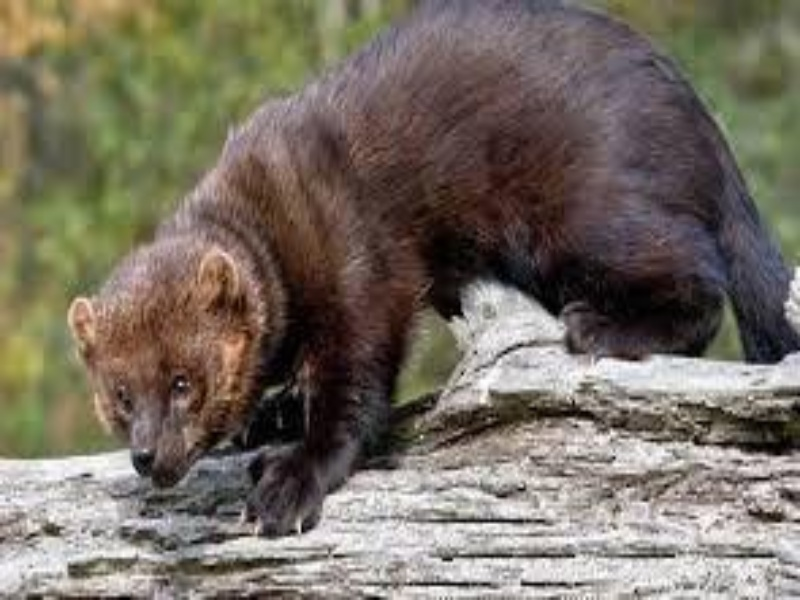minkish: (64, 1, 795, 541)
